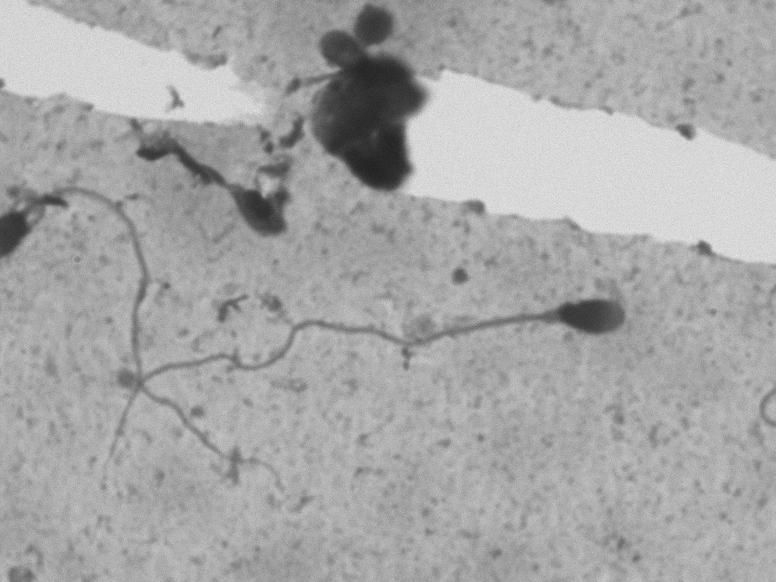Normal: (63, 285, 686, 484)
